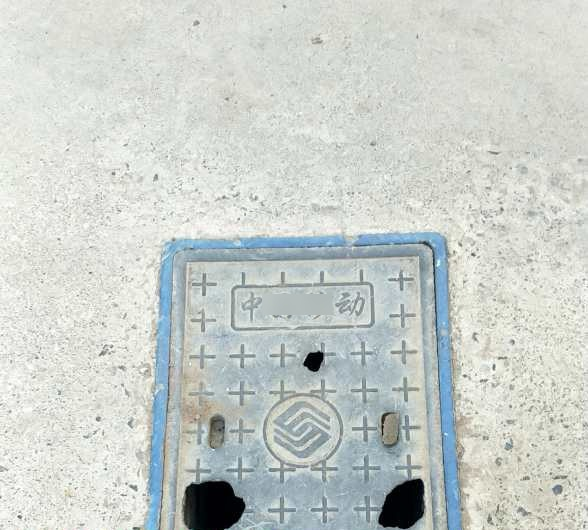broke: (148, 233, 467, 530)
